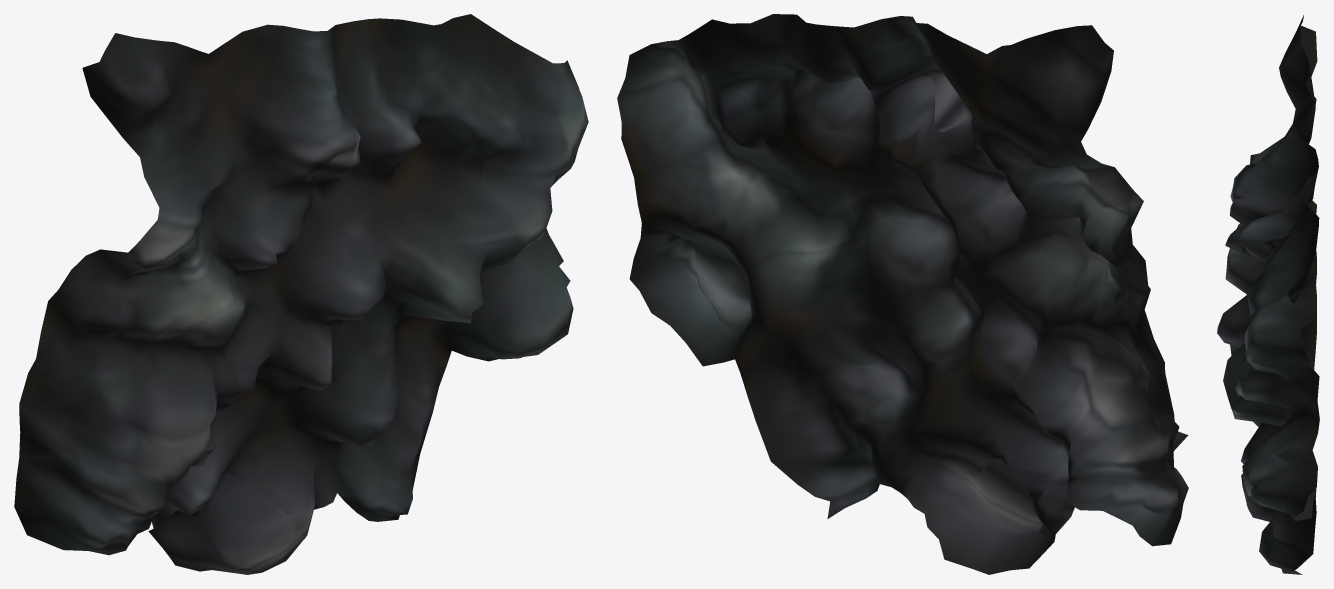
File: Mussels08.fbx
The picture shows the model from 3 angles, left to right: view 1: azimuth 30°, elevation 25°; view 2: azimuth 150°, elevation 25°; view 3: azimuth 270°, elevation 25°; orthographic projection. The views are drawn at different scales.
Parts seen in each view (by area): view 1: Mussels08; view 2: Mussels08; view 3: Mussels08.
Part boxes in pixels (<box>): Mussels08: <box>14,14,588,574</box>; Mussels08: <box>617,14,1188,574</box>; Mussels08: <box>1217,15,1319,574</box>.
Size of the model in its own units: 51.78 by 49.78 by 9.95.
